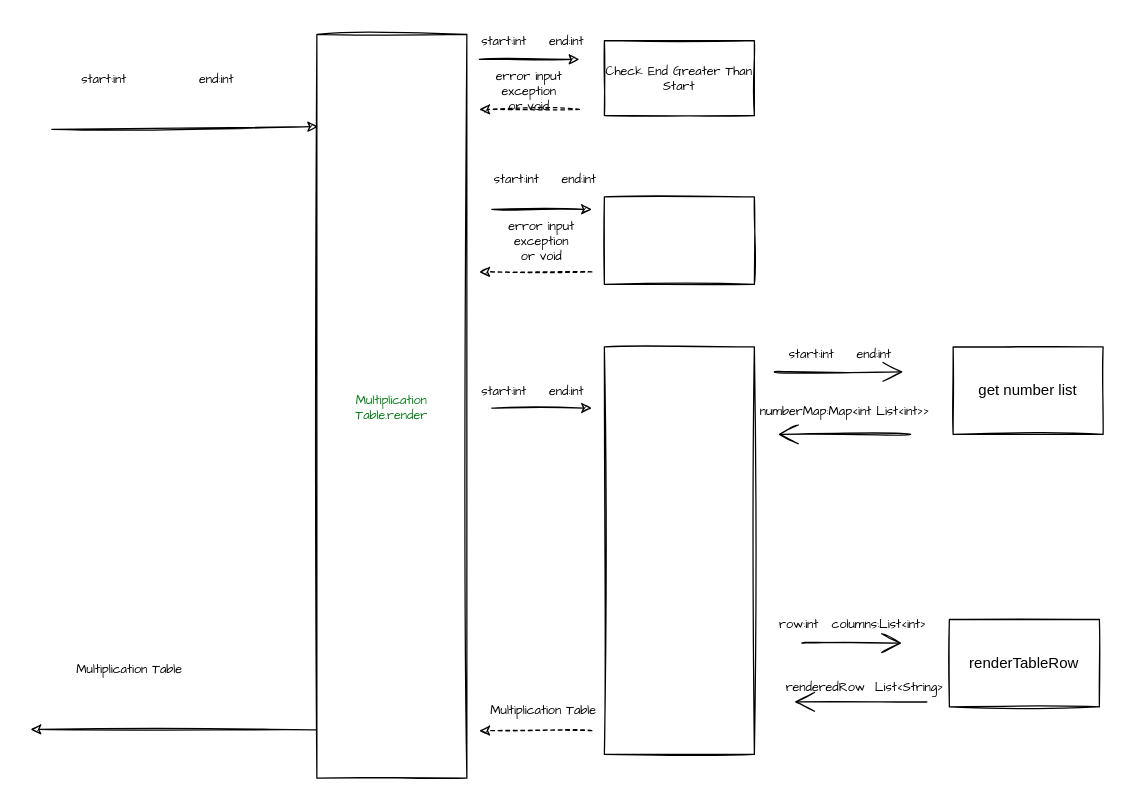
The diagram is 1125 pixels wide and 800 high, and some of its shapes have lost their labels. Here are the shapes that lost their labels. From the top down, the centre of each, then its label:
At [678,240]: "Check number between in 1 and 10".
At [678,550]: "render multiplication".
